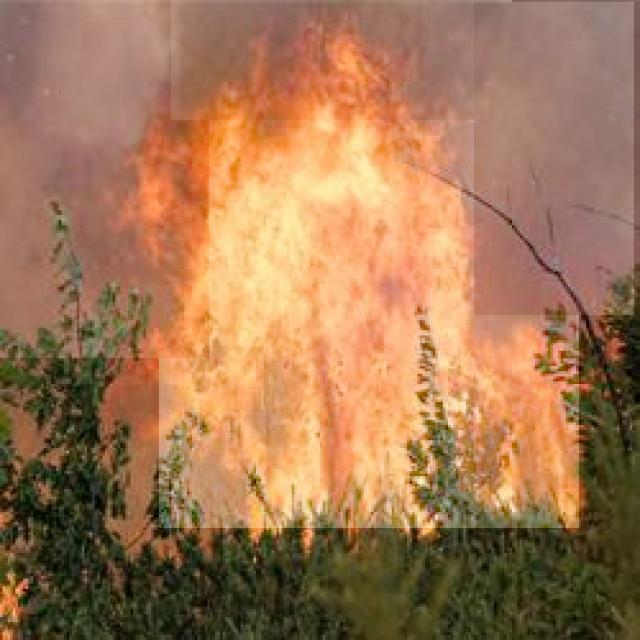Fire: (159, 87, 579, 528)
Smoke: (0, 0, 209, 358), (474, 2, 634, 315), (171, 0, 512, 120)
